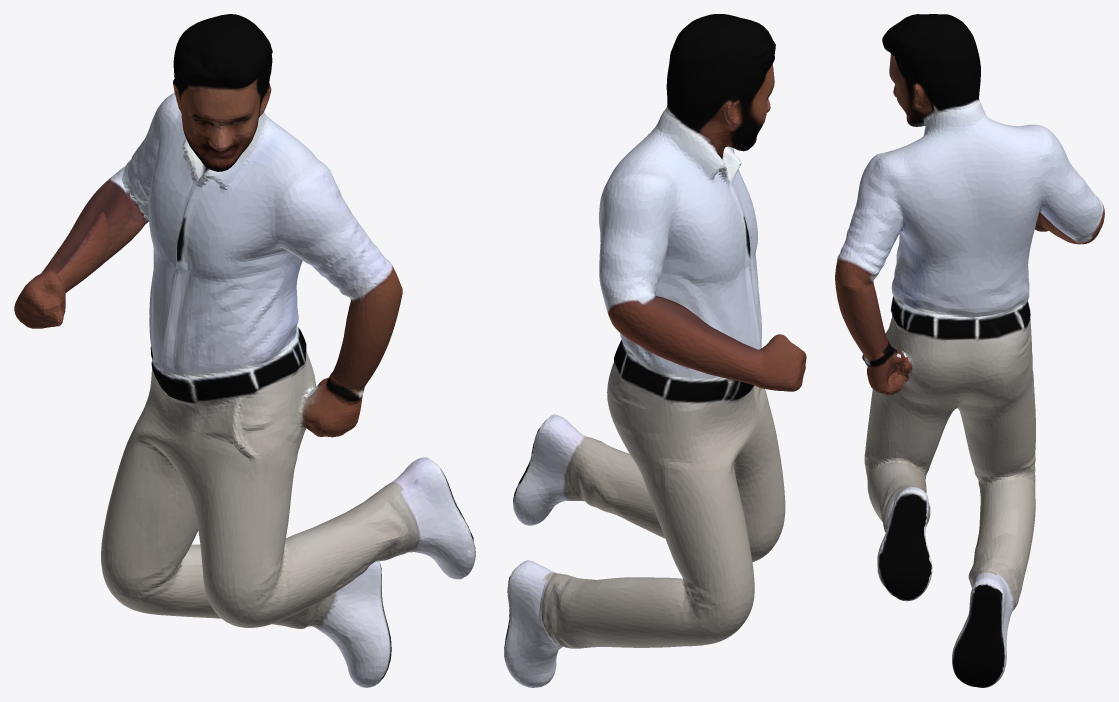
The model's file is jump_2.glb.
The picture shows the model from 3 angles, left to right: view 1: azimuth 30°, elevation 25°; view 2: azimuth 150°, elevation 25°; view 3: azimuth 270°, elevation 25°; orthographic projection. The views are drawn at different scales.
Parts seen in each view (by area): view 1: tmpmfopylg1.ply; view 2: tmpmfopylg1.ply; view 3: tmpmfopylg1.ply.
Boxes of the visible parts, <box> form: tmpmfopylg1.ply: <box>14,14,475,687</box>; tmpmfopylg1.ply: <box>504,14,806,687</box>; tmpmfopylg1.ply: <box>835,14,1104,687</box>.
Bounding box in the file's own units: 1.06 × 1.99 × 0.8101.
Materials: 1 (1 with a texture image).
